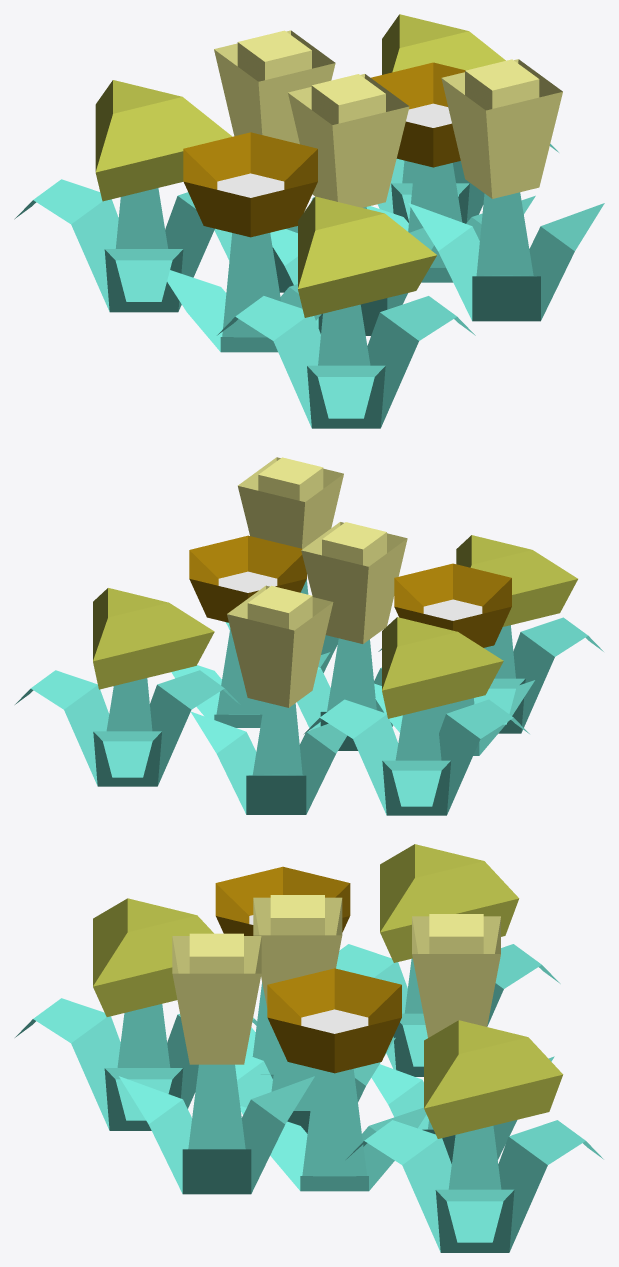
File: floweryerrow01.fbx
3 renders of one model, top to bottom at view 1: azimuth 30°, elevation 25°; view 2: azimuth 150°, elevation 25°; view 3: azimuth 270°, elevation 25°, orthographic. The views are drawn at different scales.
Visible parts, largest first — view 1: flower_purpleB3; view 2: flower_purpleB3; view 3: flower_purpleB3.
Part boxes in pixels (x1,y1,x2,y2): flower_purpleB3: (14, 14, 604, 428); flower_purpleB3: (15, 457, 603, 815); flower_purpleB3: (15, 844, 603, 1252).
Bounding box in the file's own units: 5.35 × 2.76 × 5.44.
